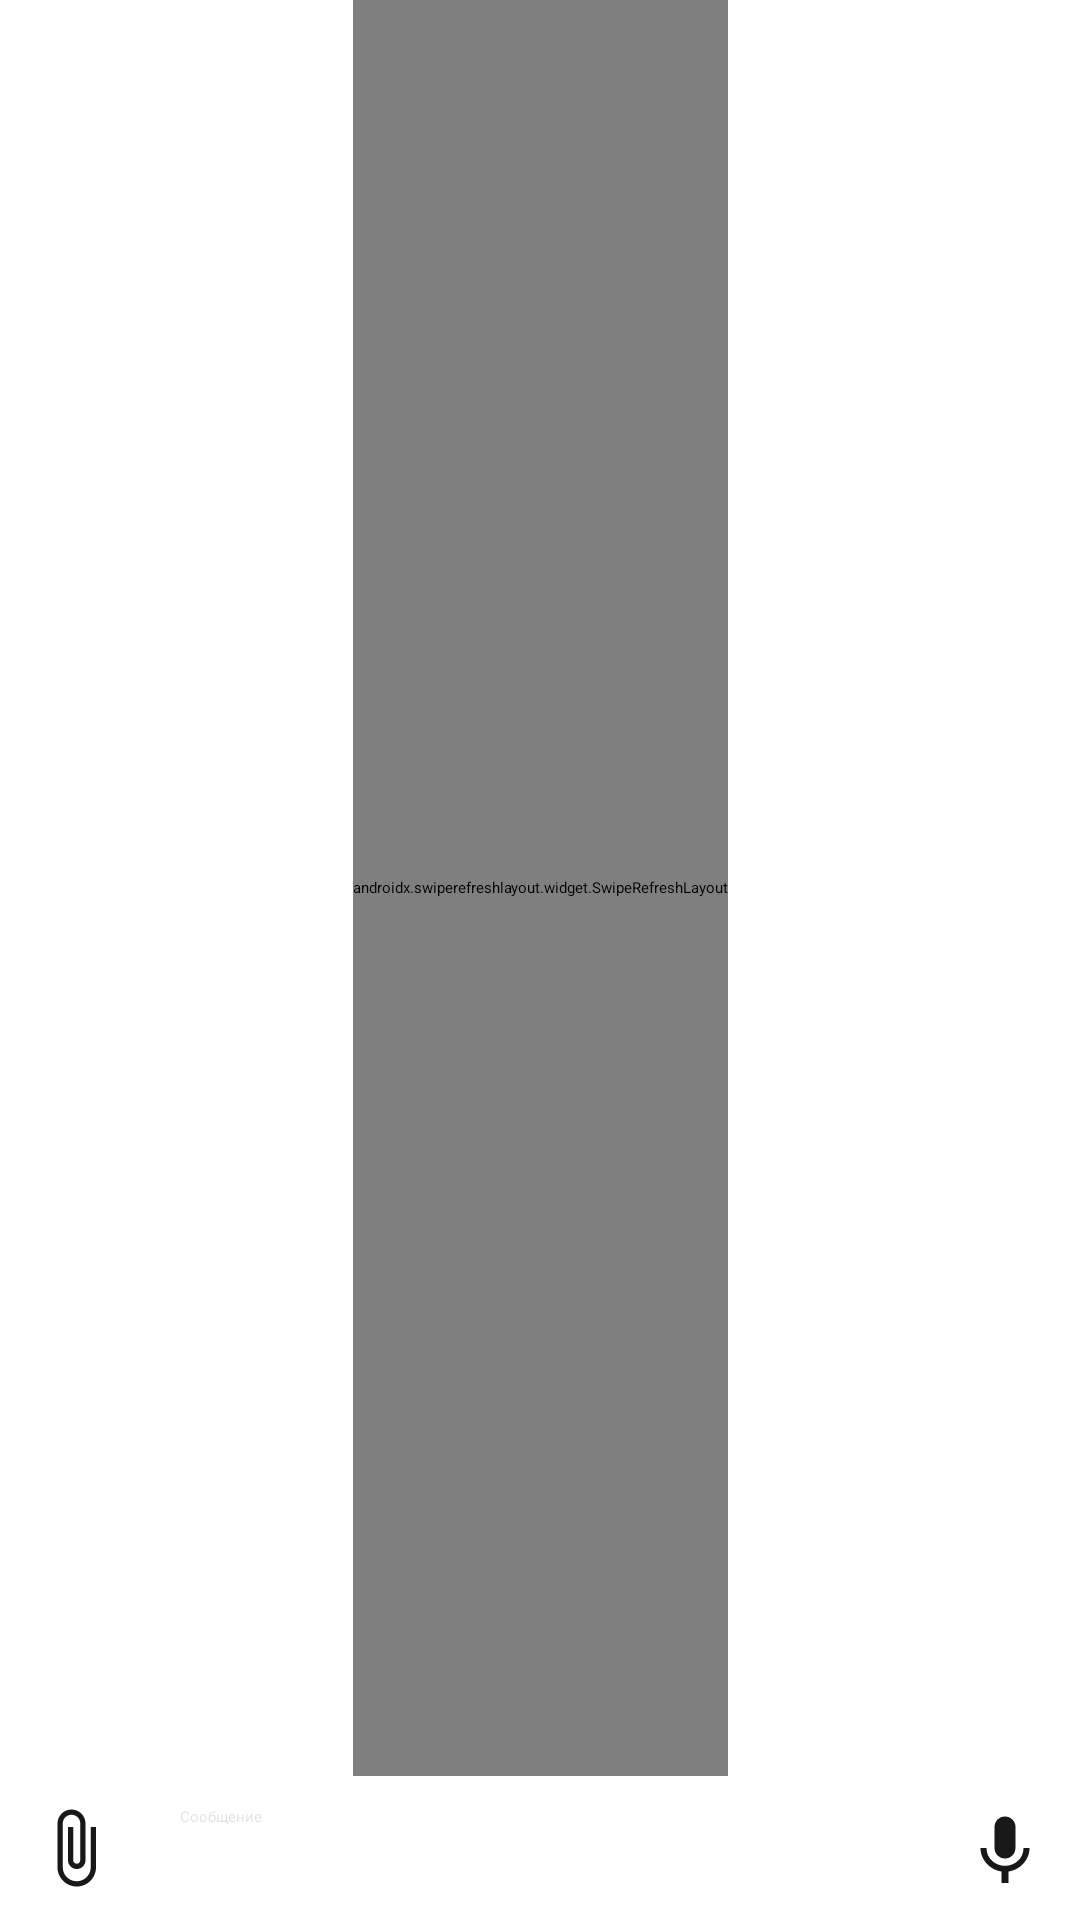

Locate icon controls on the screen. Image size 1080 × 1920, boxes as box(x1, y1, x2, y2).
attach: box(57, 1809, 96, 1887)
voice: box(980, 1816, 1030, 1883)
